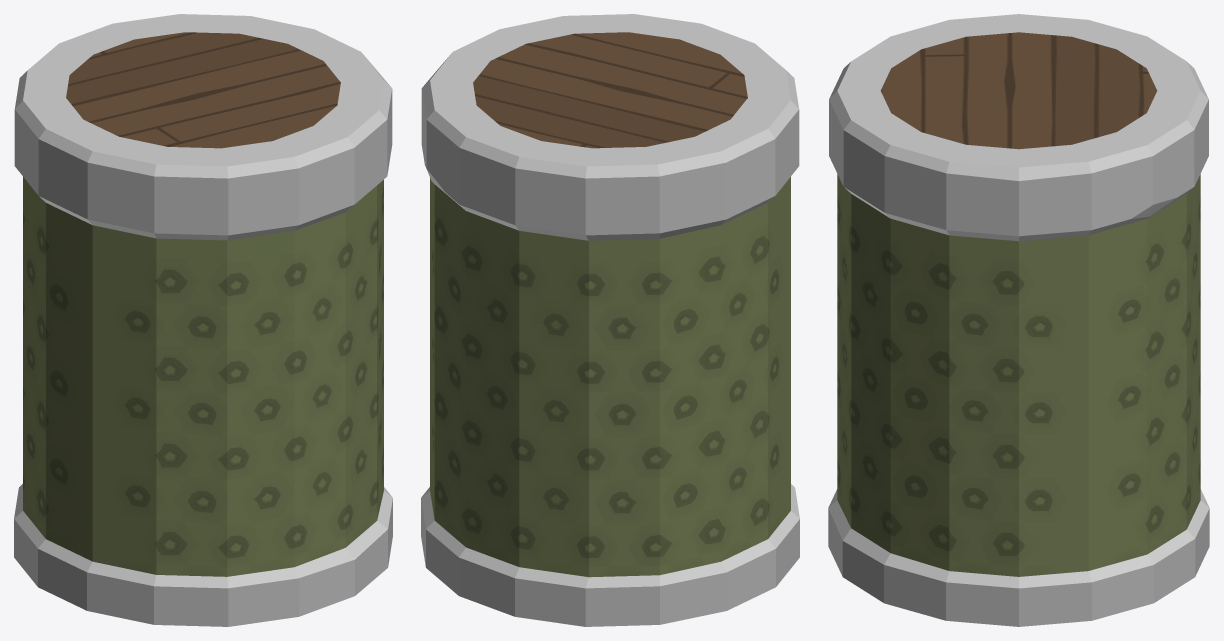
Rendered from SM_Prop_Plinth_01.fbx.
3 renders of one model, left to right at view 1: azimuth 30°, elevation 25°; view 2: azimuth 150°, elevation 25°; view 3: azimuth 270°, elevation 25°, orthographic.
Parts seen in each view (by area): view 1: SM_Prop_Plinth_01; view 2: SM_Prop_Plinth_01; view 3: SM_Prop_Plinth_01.
Boxes of the visible parts, x1,y1,x2,y2 form: SM_Prop_Plinth_01: (14, 14, 392, 626); SM_Prop_Plinth_01: (421, 14, 799, 626); SM_Prop_Plinth_01: (828, 14, 1209, 626).
Size of the model in its own units: 152 by 200 by 152.
